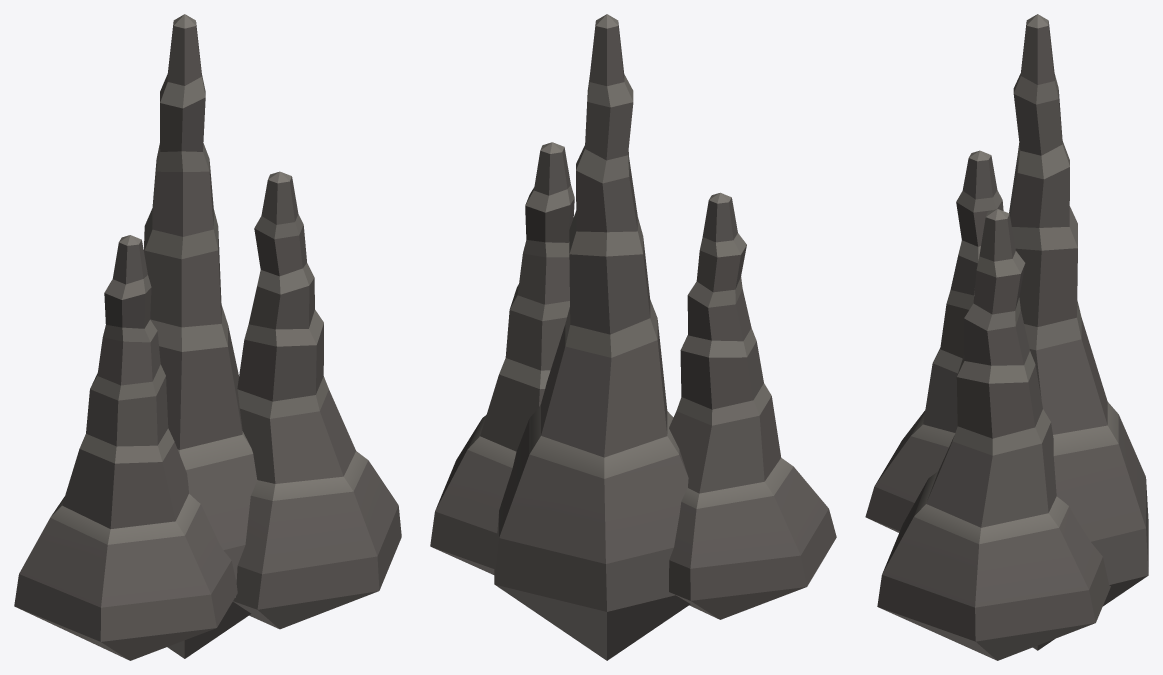
The model's file is SM_Env_Stalagmite_05.glb.
The picture shows the model from 3 angles, left to right: view 1: azimuth 30°, elevation 25°; view 2: azimuth 150°, elevation 25°; view 3: azimuth 270°, elevation 25°; orthographic projection.
Visible parts, largest first — view 1: SM_Env_Stalagmite_05; view 2: SM_Env_Stalagmite_05; view 3: SM_Env_Stalagmite_05.
Boxes of the visible parts, left/top/right/bottom form: SM_Env_Stalagmite_05: left=14, top=14, right=401, bottom=660; SM_Env_Stalagmite_05: left=430, top=14, right=836, bottom=660; SM_Env_Stalagmite_05: left=865, top=14, right=1148, bottom=660.
Bounding box in the file's own units: 0.00748 × 0.0124 × 0.00502.
Materials: 1 (1 with a texture image).
